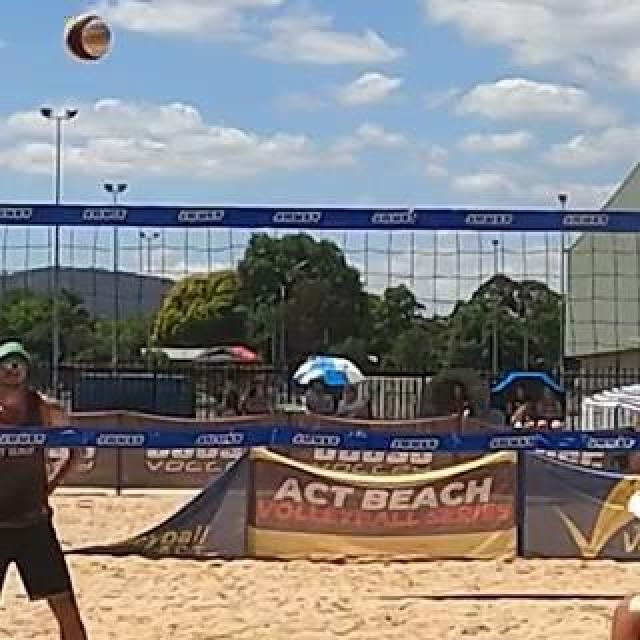volleyball: (65, 13, 111, 61)
